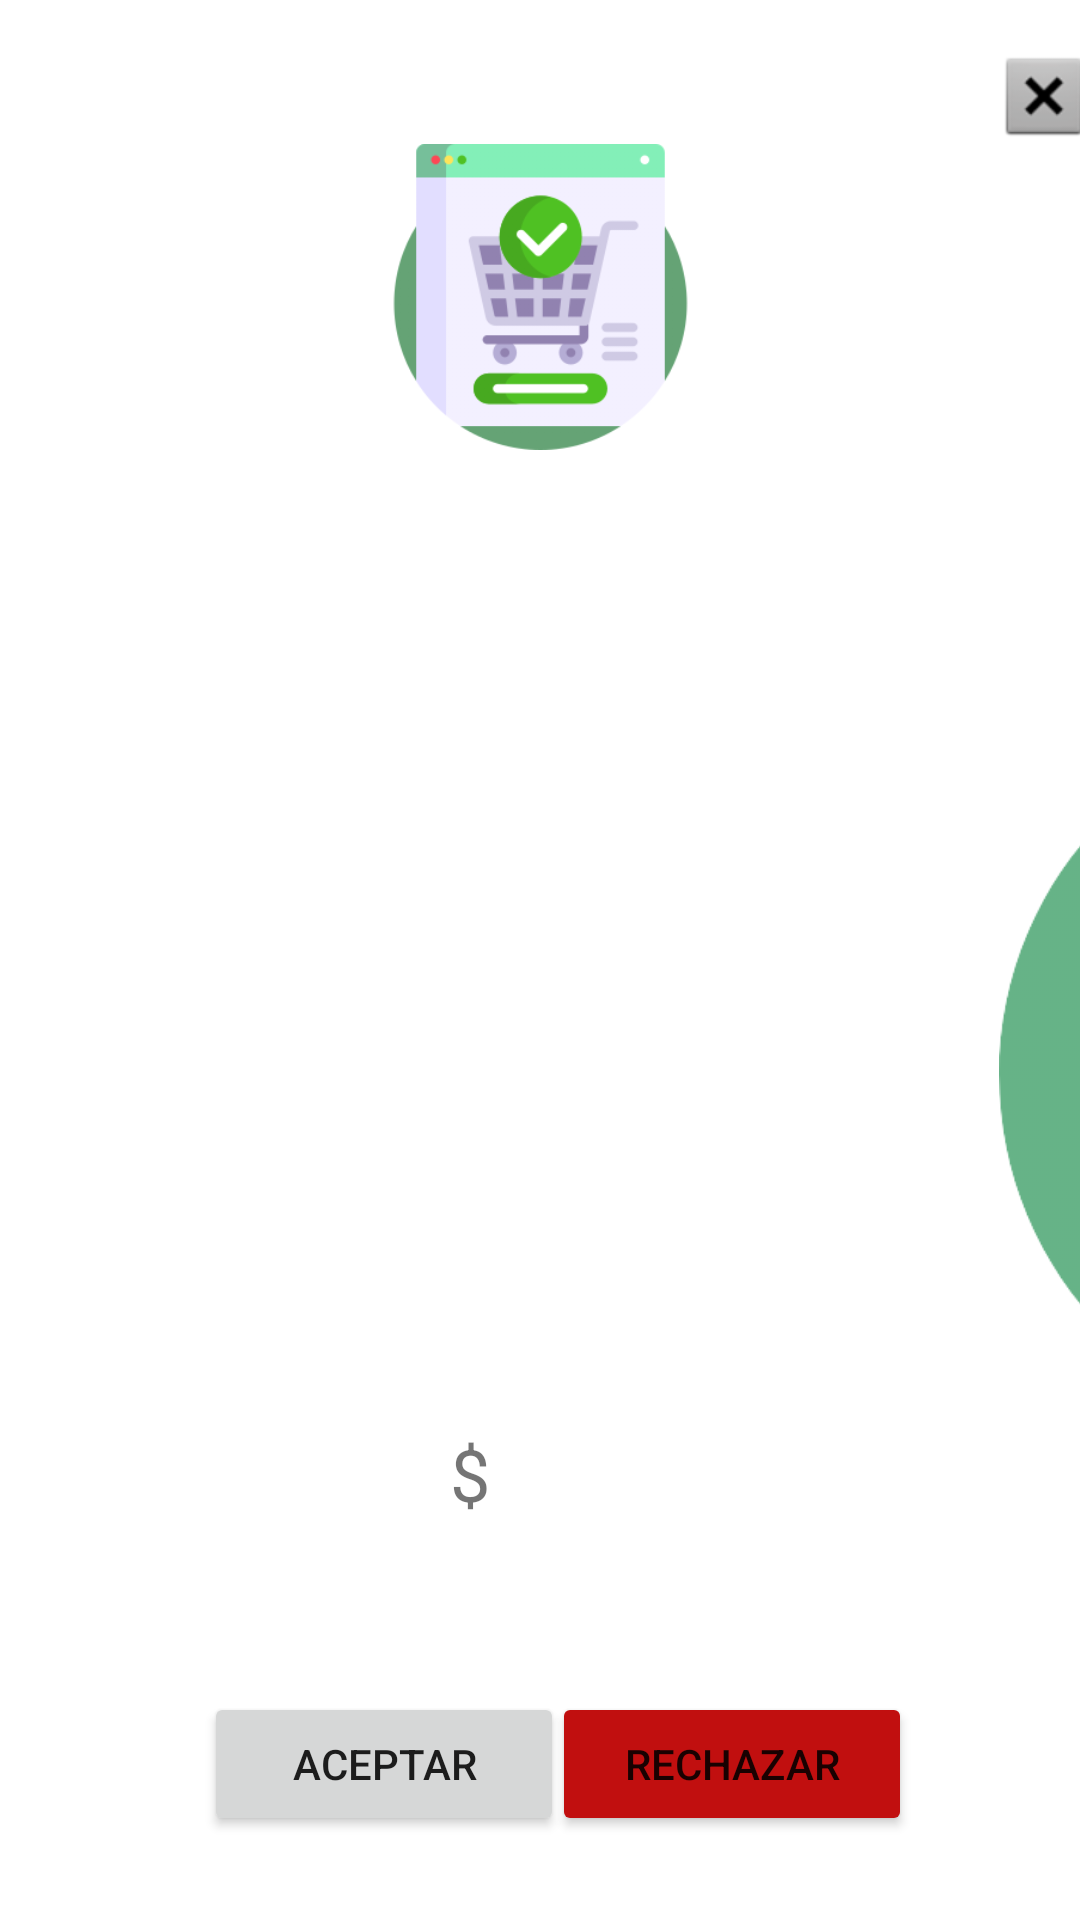

Screen size 1080*1920. Icon name, then its box in pixels as (x1, y1, x2, y2):
pedido: (393, 144, 688, 450)
